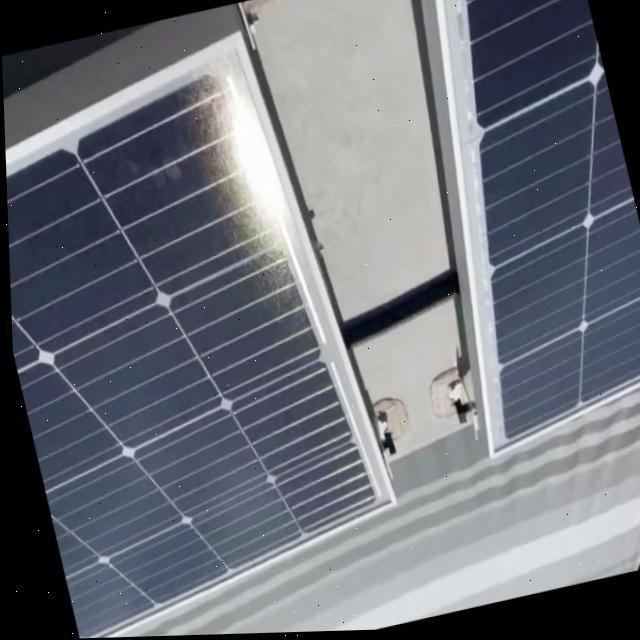Normal Solar Panel: (1, 18, 412, 640), (378, 0, 640, 464)
